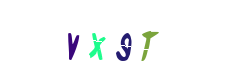9: (75, 0, 155, 80)
T: (98, 0, 178, 80)
V: (56, 0, 136, 80)
X: (60, 0, 140, 80)
